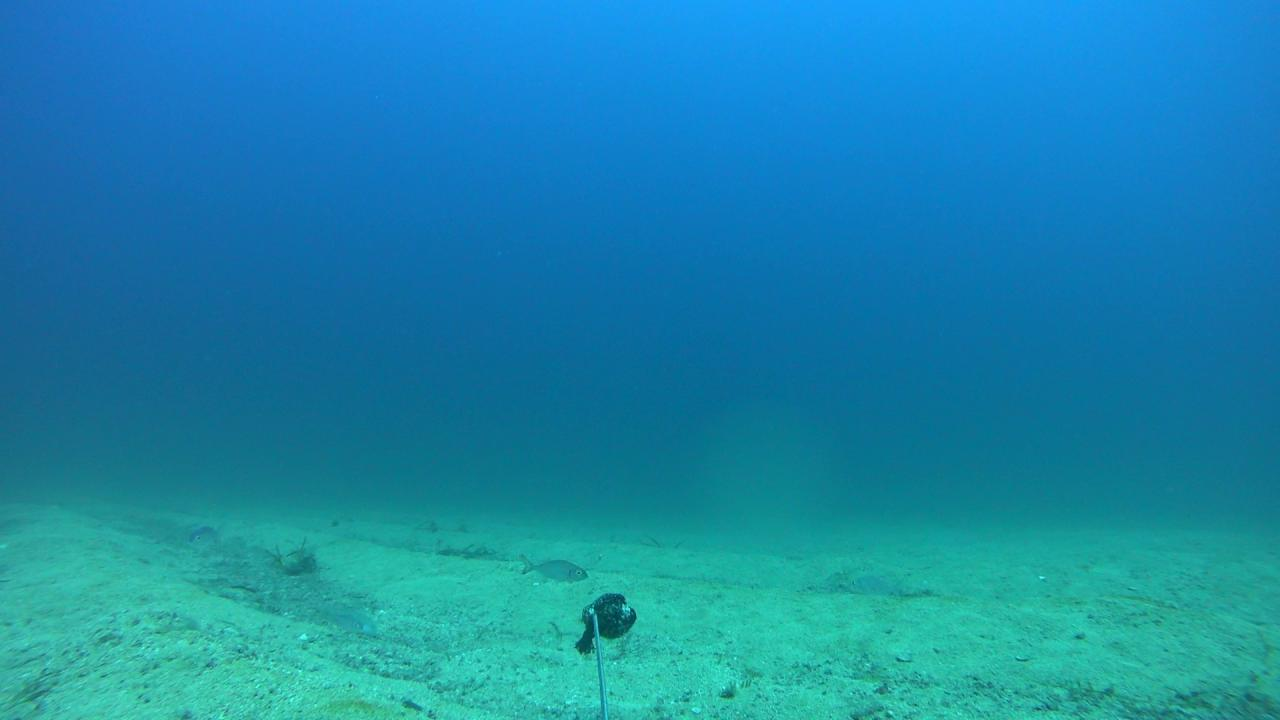pagellus: (518, 553, 585, 583), (846, 570, 907, 601), (187, 524, 225, 550)
raor: (306, 602, 378, 639)
